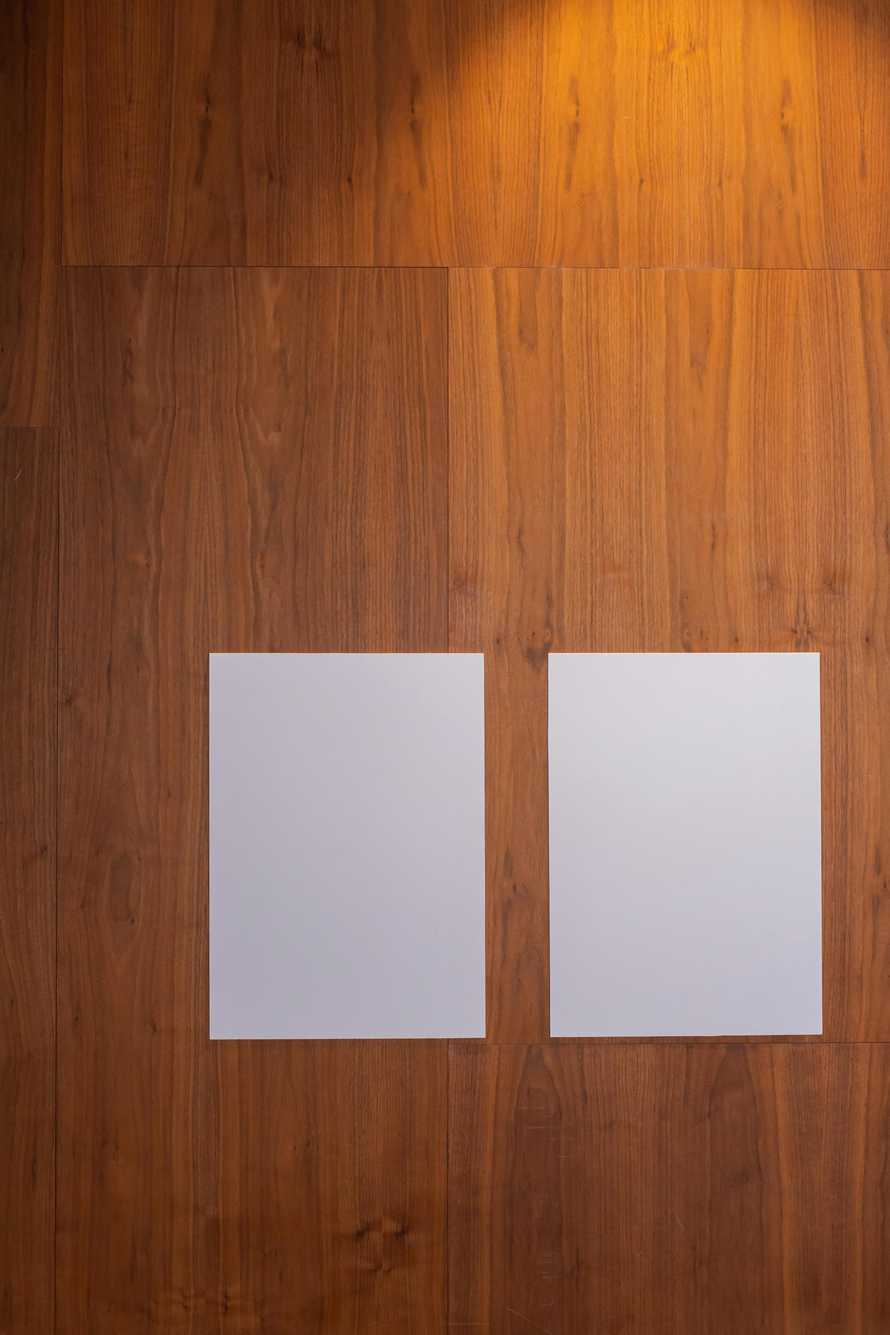paper: (206, 652, 487, 1040), (547, 652, 822, 1037)
